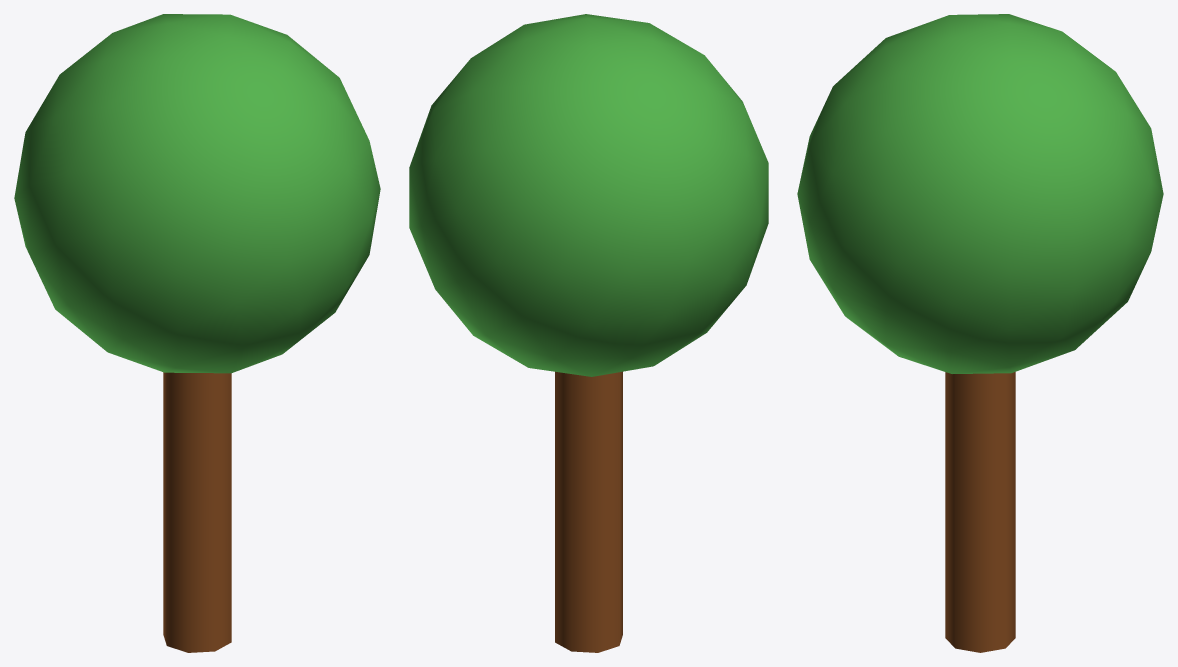
The model's file is tree_sphere_02.FBX.
3 views of the same model, side by side, from view 1: azimuth 30°, elevation 25°; view 2: azimuth 150°, elevation 25°; view 3: azimuth 270°, elevation 25° (orthographic).
Parts seen in each view (by area): view 1: tree_sphere_02; view 2: tree_sphere_02; view 3: tree_sphere_02.
Boxes of the visible parts, bbox=[...] form: tree_sphere_02: bbox=[14, 14, 380, 652]; tree_sphere_02: bbox=[409, 14, 768, 652]; tree_sphere_02: bbox=[797, 14, 1163, 652].
Bounding box in the file's own units: 157 × 159 × 291.
1 material, 1 textured.
